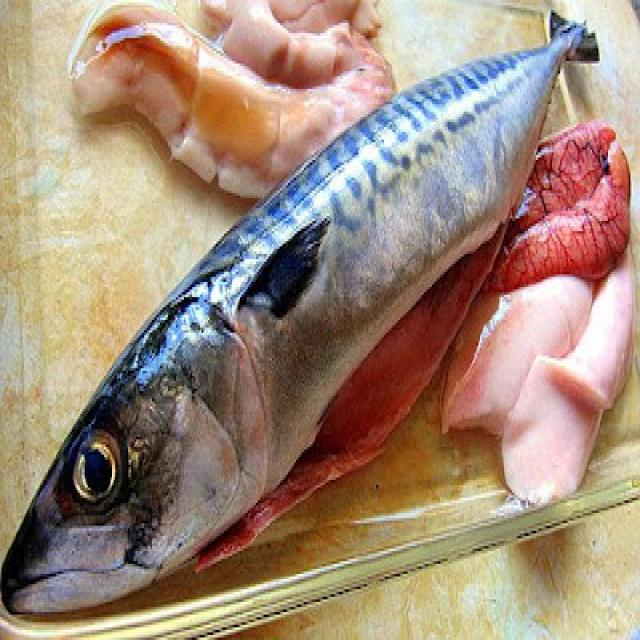Mackerel: (1, 26, 582, 612)
